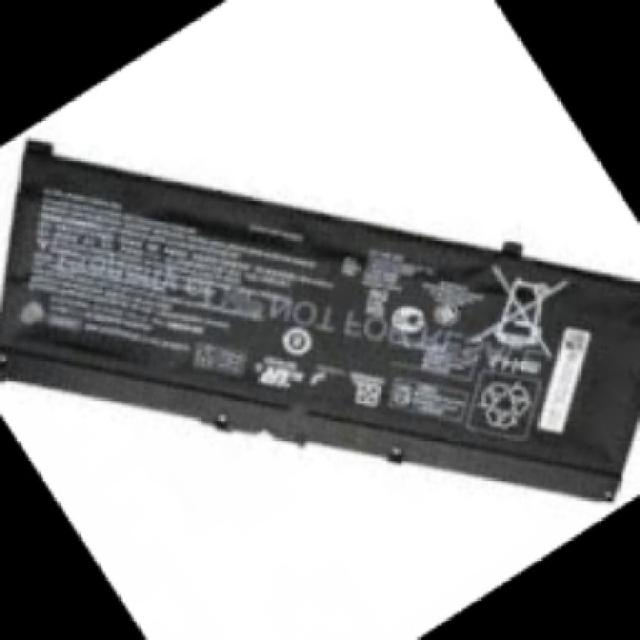elektronik: (0, 143, 638, 498), (32, 165, 271, 425)
